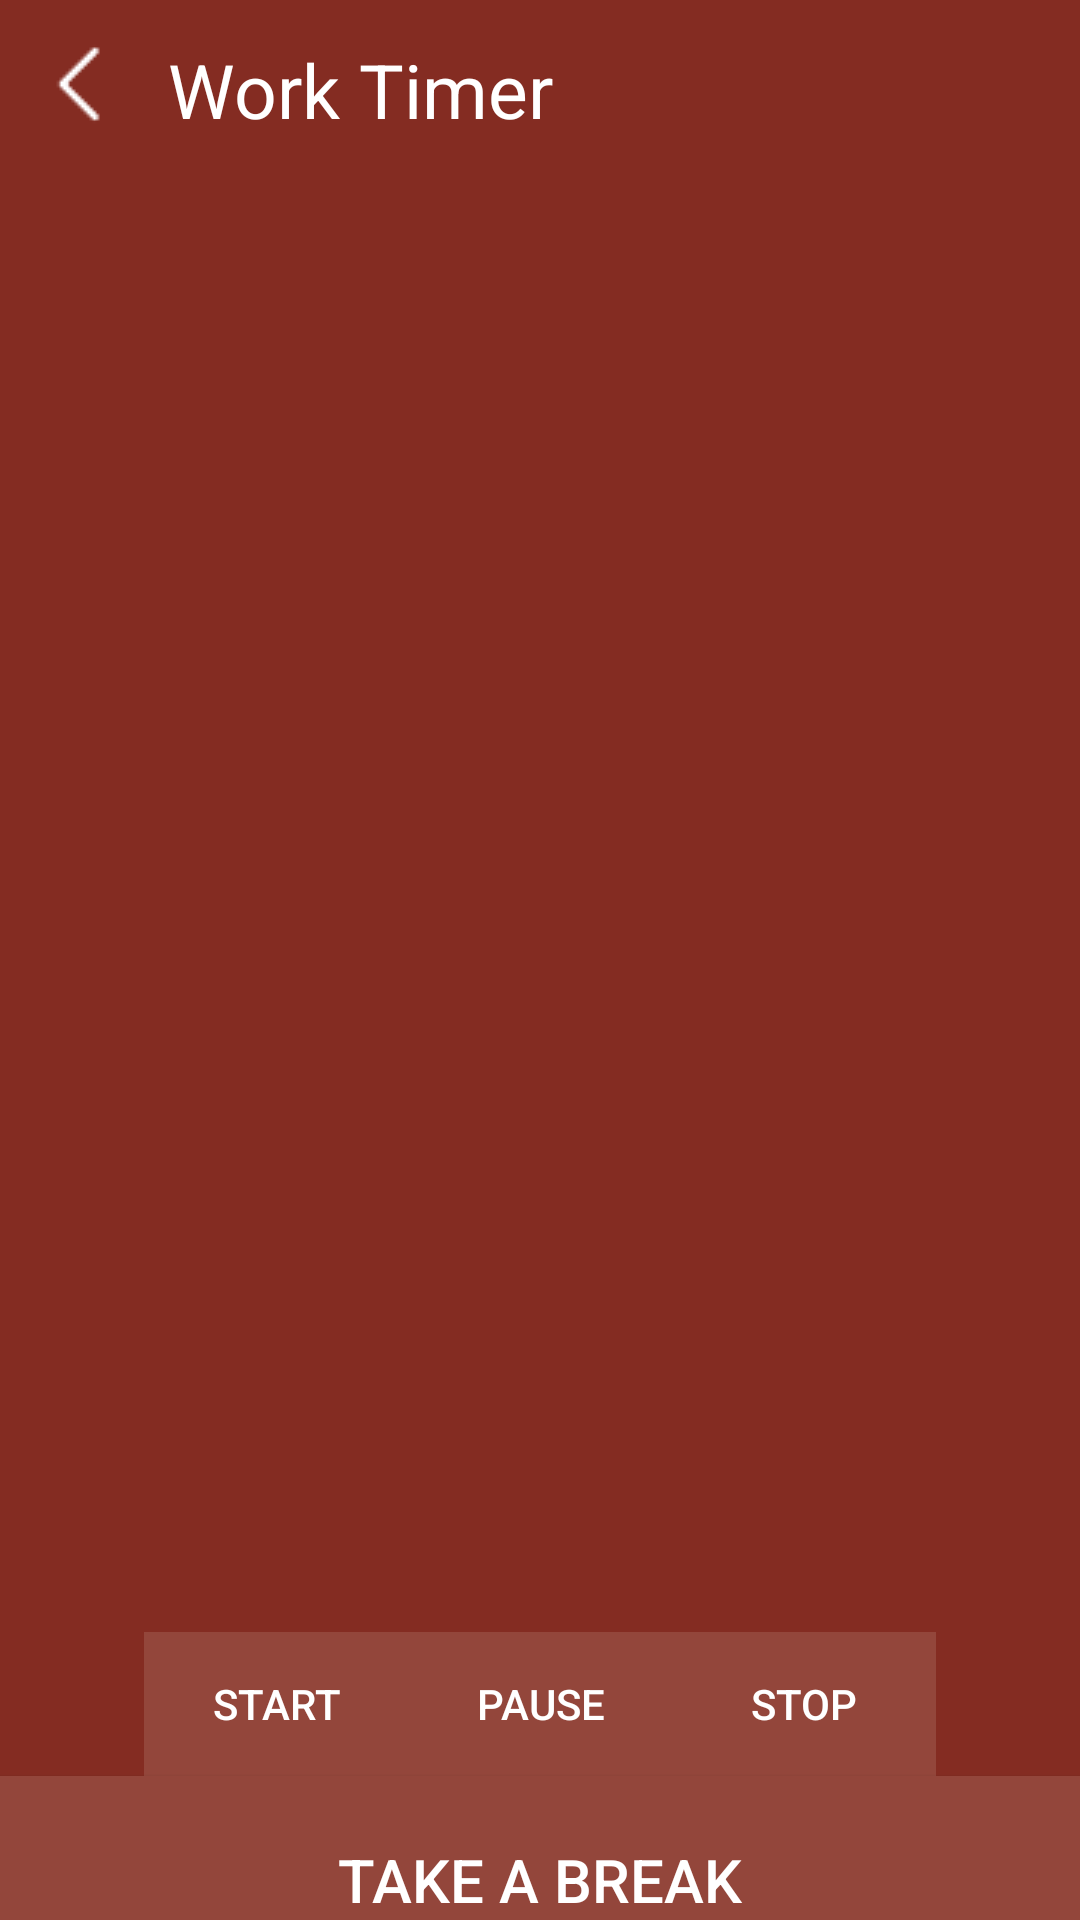

Icon click points for this 1080px x 1920px phone screenshot, format (x,y):
backbutton: (79,84)
